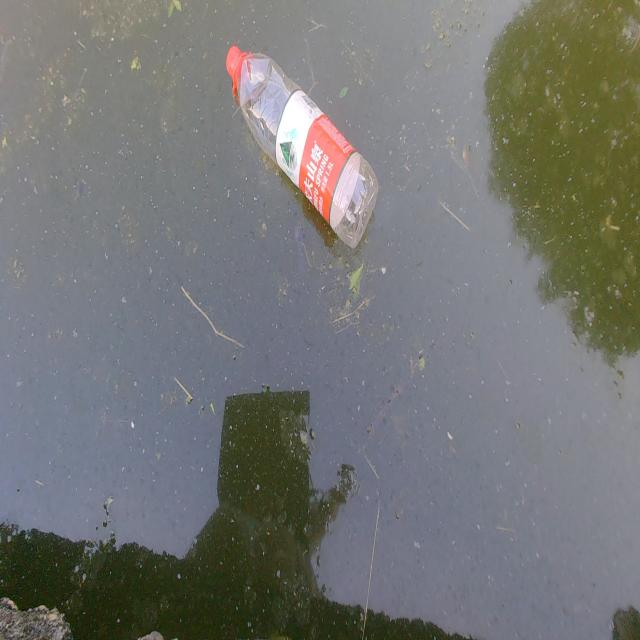Bottle: (222, 34, 383, 252)
